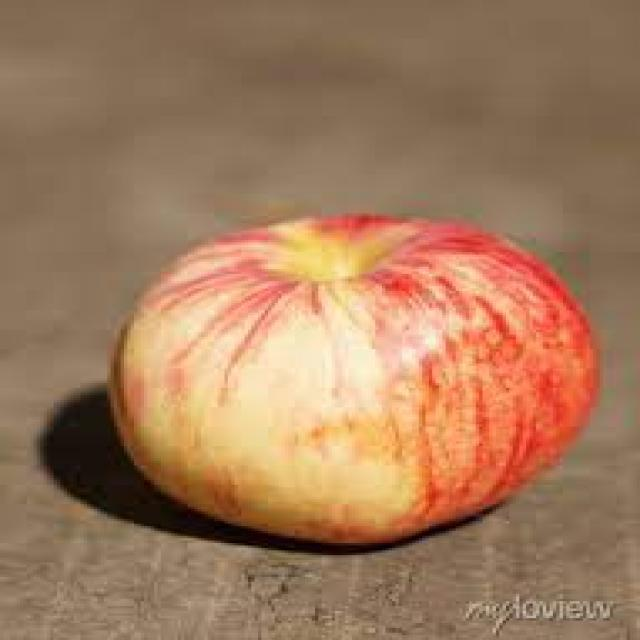Fresh Apple: (99, 197, 598, 560)
